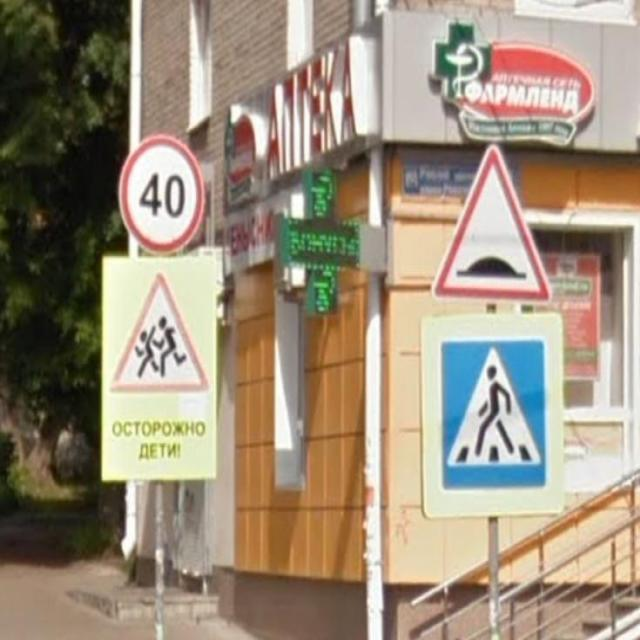traffic_sign: (420, 310, 566, 518), (431, 145, 553, 304), (110, 271, 207, 396), (117, 133, 205, 256)
